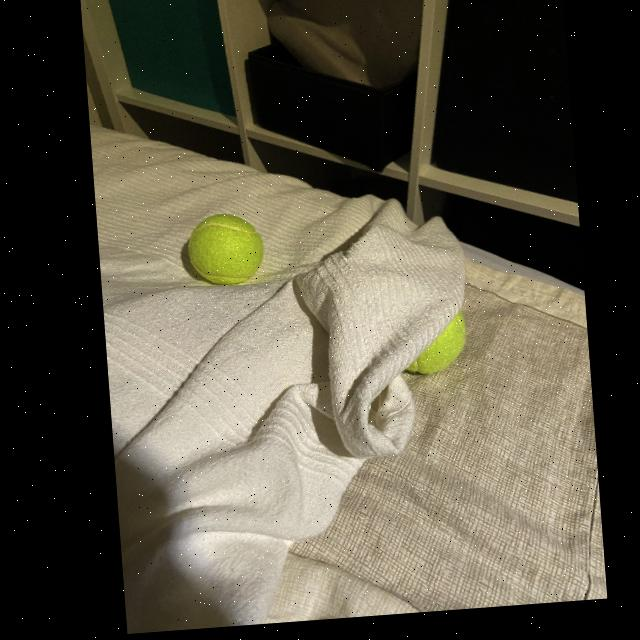Tennisball: (188, 214, 263, 285), (406, 312, 466, 375)
